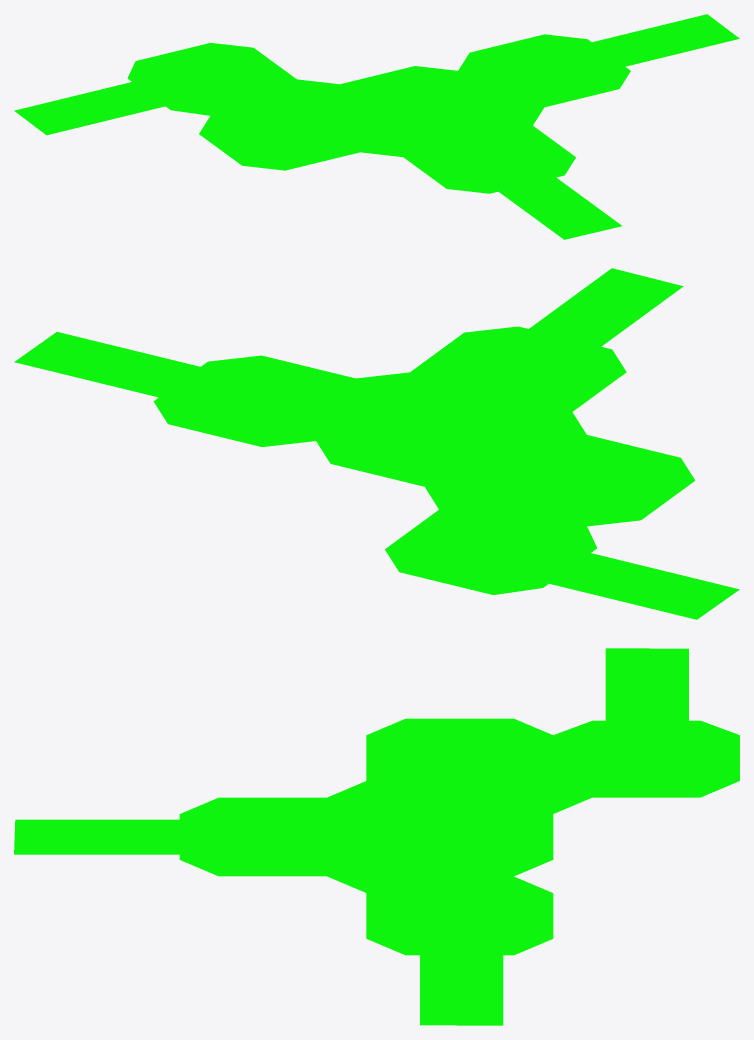
Rendered from s02a_tc3-floor.glb.
The picture shows the model from 3 angles, top to bottom: view 1: azimuth 30°, elevation 25°; view 2: azimuth 150°, elevation 25°; view 3: azimuth 270°, elevation 25°; orthographic projection. The views are drawn at different scales.
Visible parts, largest first — view 1: collision_floor-colonly; view 2: collision_floor-colonly; view 3: collision_floor-colonly.
Boxes of the visible parts, x1,y1,x2,y2 form: collision_floor-colonly: (14, 14, 739, 239); collision_floor-colonly: (14, 268, 739, 619); collision_floor-colonly: (14, 648, 739, 1025).
Bounding box in the file's own units: 64.25 × 0 × 52.21.
